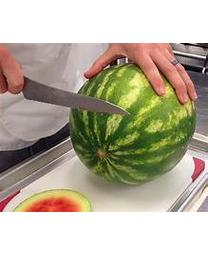watermelon: (72, 64, 195, 185)
